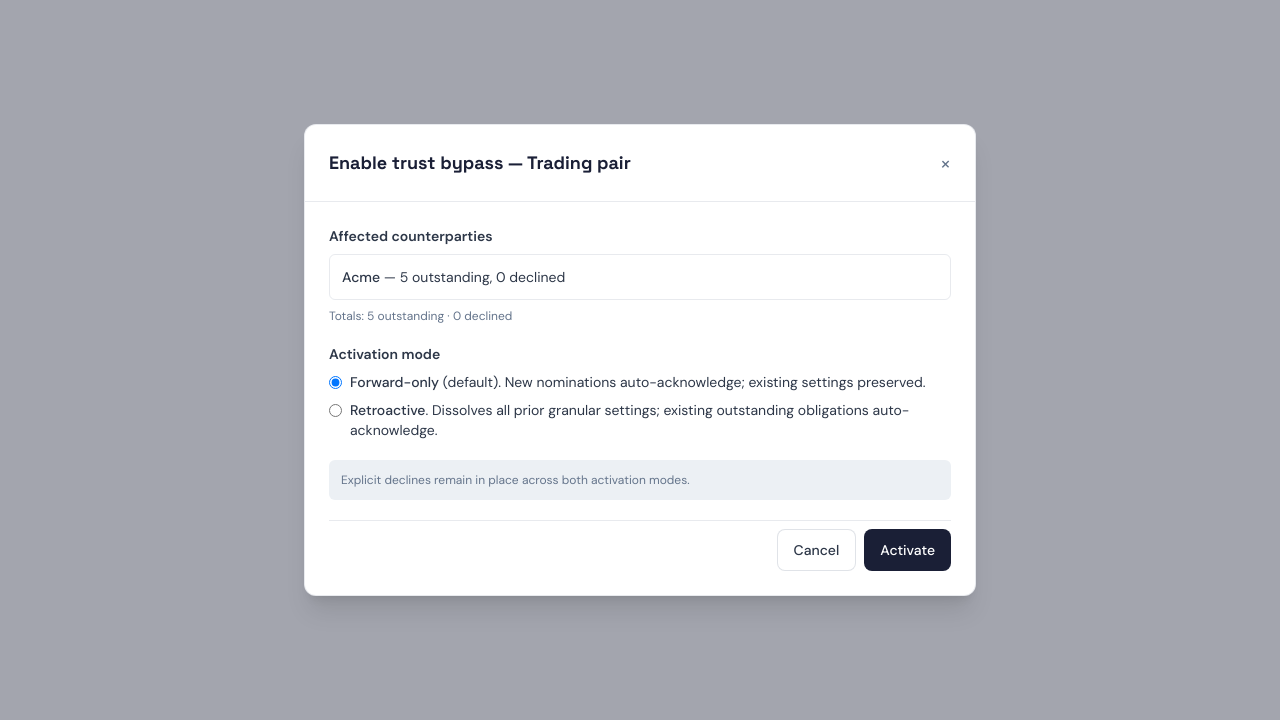
ActivationModal › disables Activate button on retroactive until checkbox ticked
expect the text "Acme" is shown: met, box [342, 268, 380, 286]
Click the radio button labelled "Retroactive" at (336, 410), box [329, 404, 342, 417]
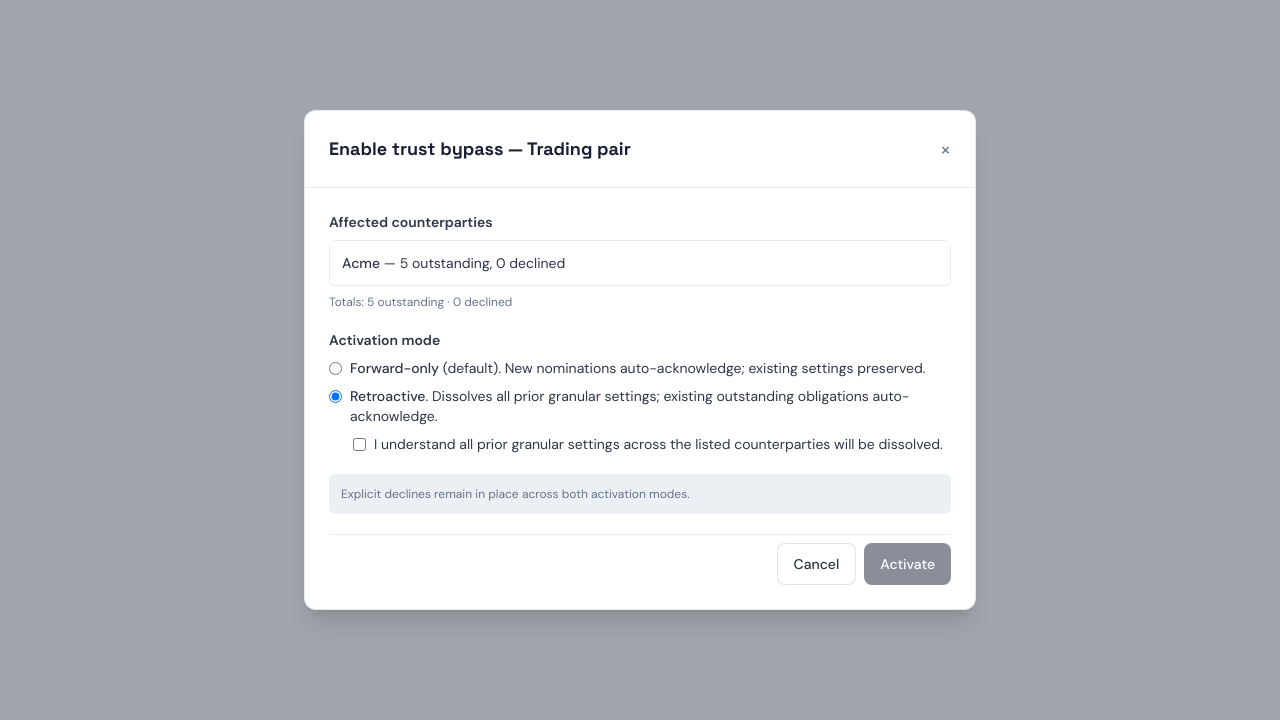
expect the button "Activate" is disabled: met, box [864, 543, 951, 585]
Click the checkbox labelled "I understand" at (360, 444), box [353, 438, 366, 451]
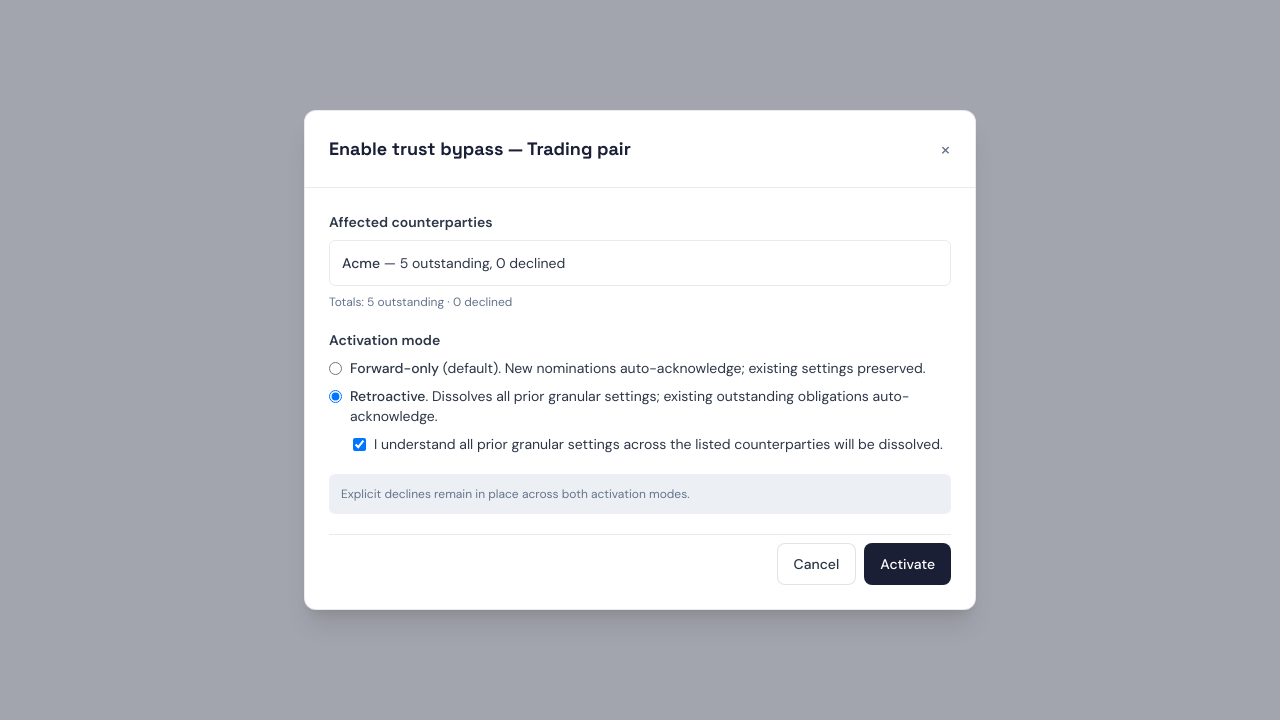
expect the button "Activate" is enabled: met, box [864, 543, 951, 585]
